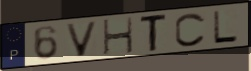6: (32, 24, 60, 61)
C: (174, 11, 208, 48)
H: (101, 16, 135, 57)
L: (212, 9, 241, 44)
T: (138, 12, 169, 54)
V: (64, 20, 101, 59)
